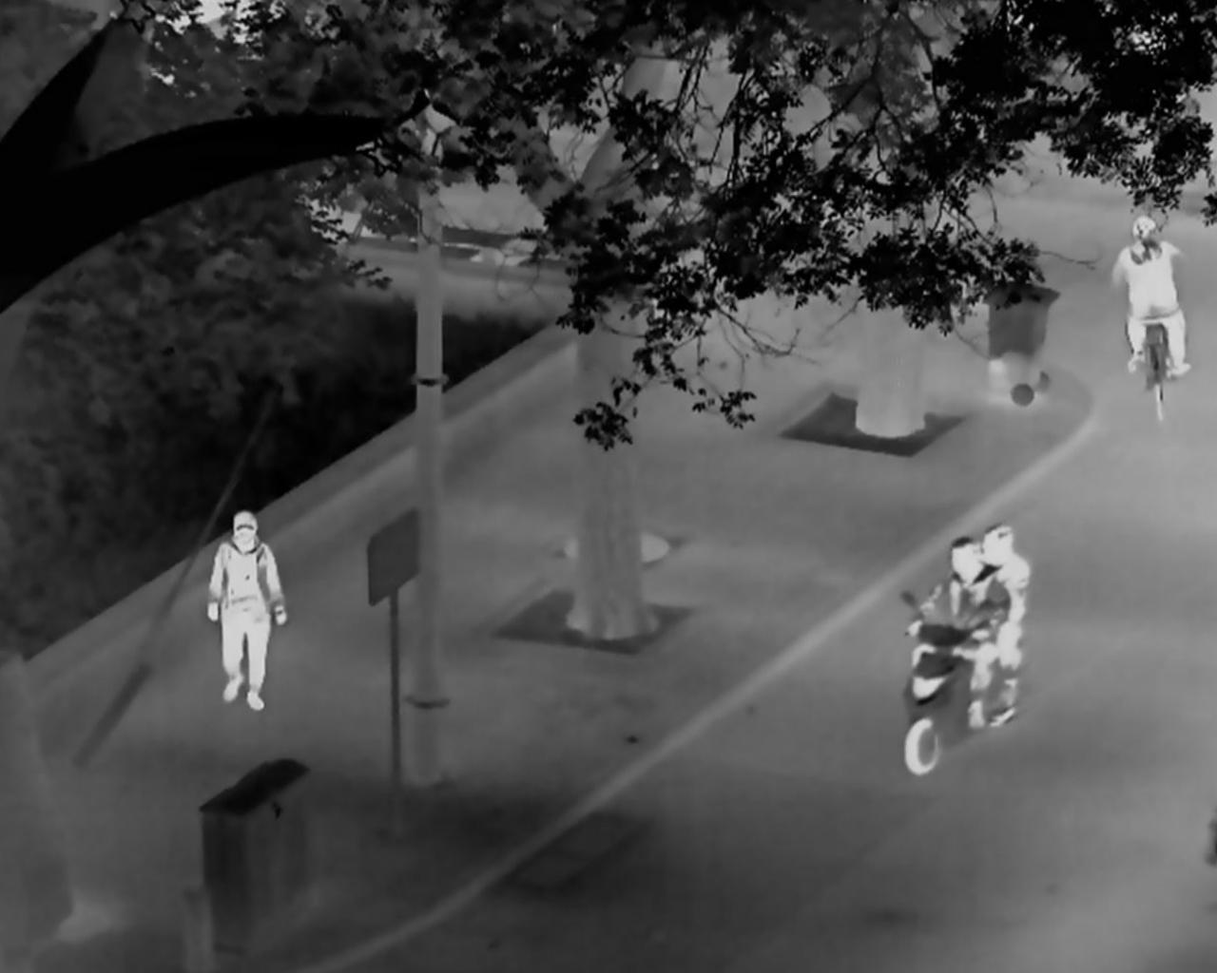person: (904, 537, 989, 731), (206, 508, 287, 710), (1108, 216, 1191, 378), (982, 520, 1030, 725)
